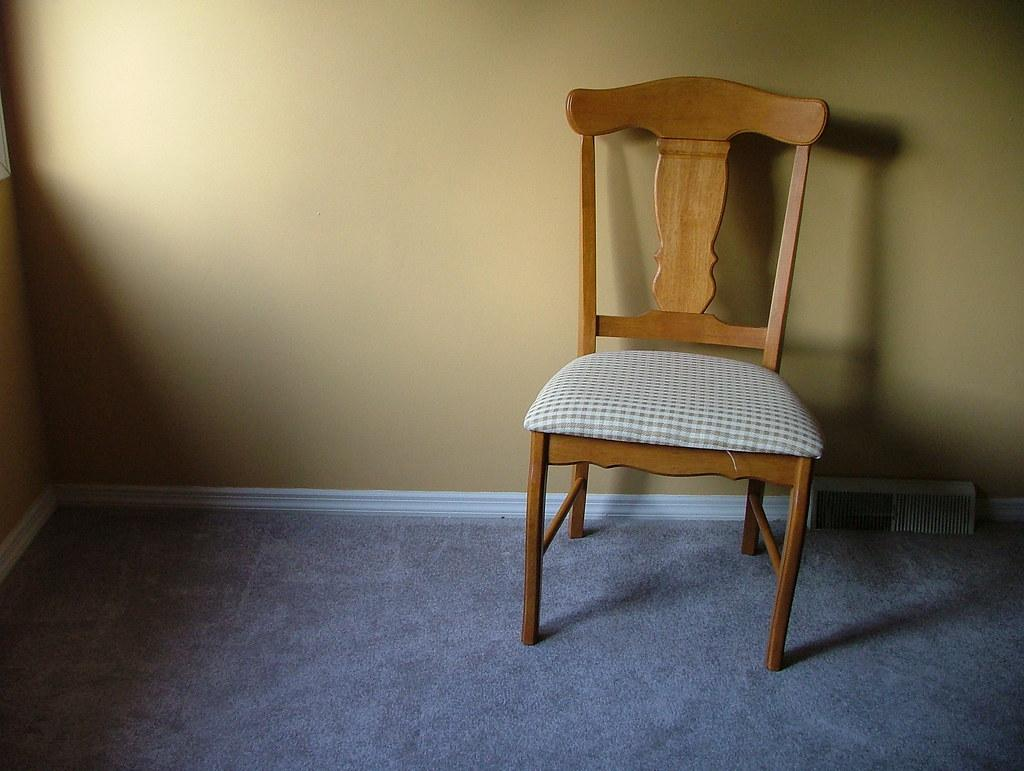chair: (521, 75, 830, 672)
